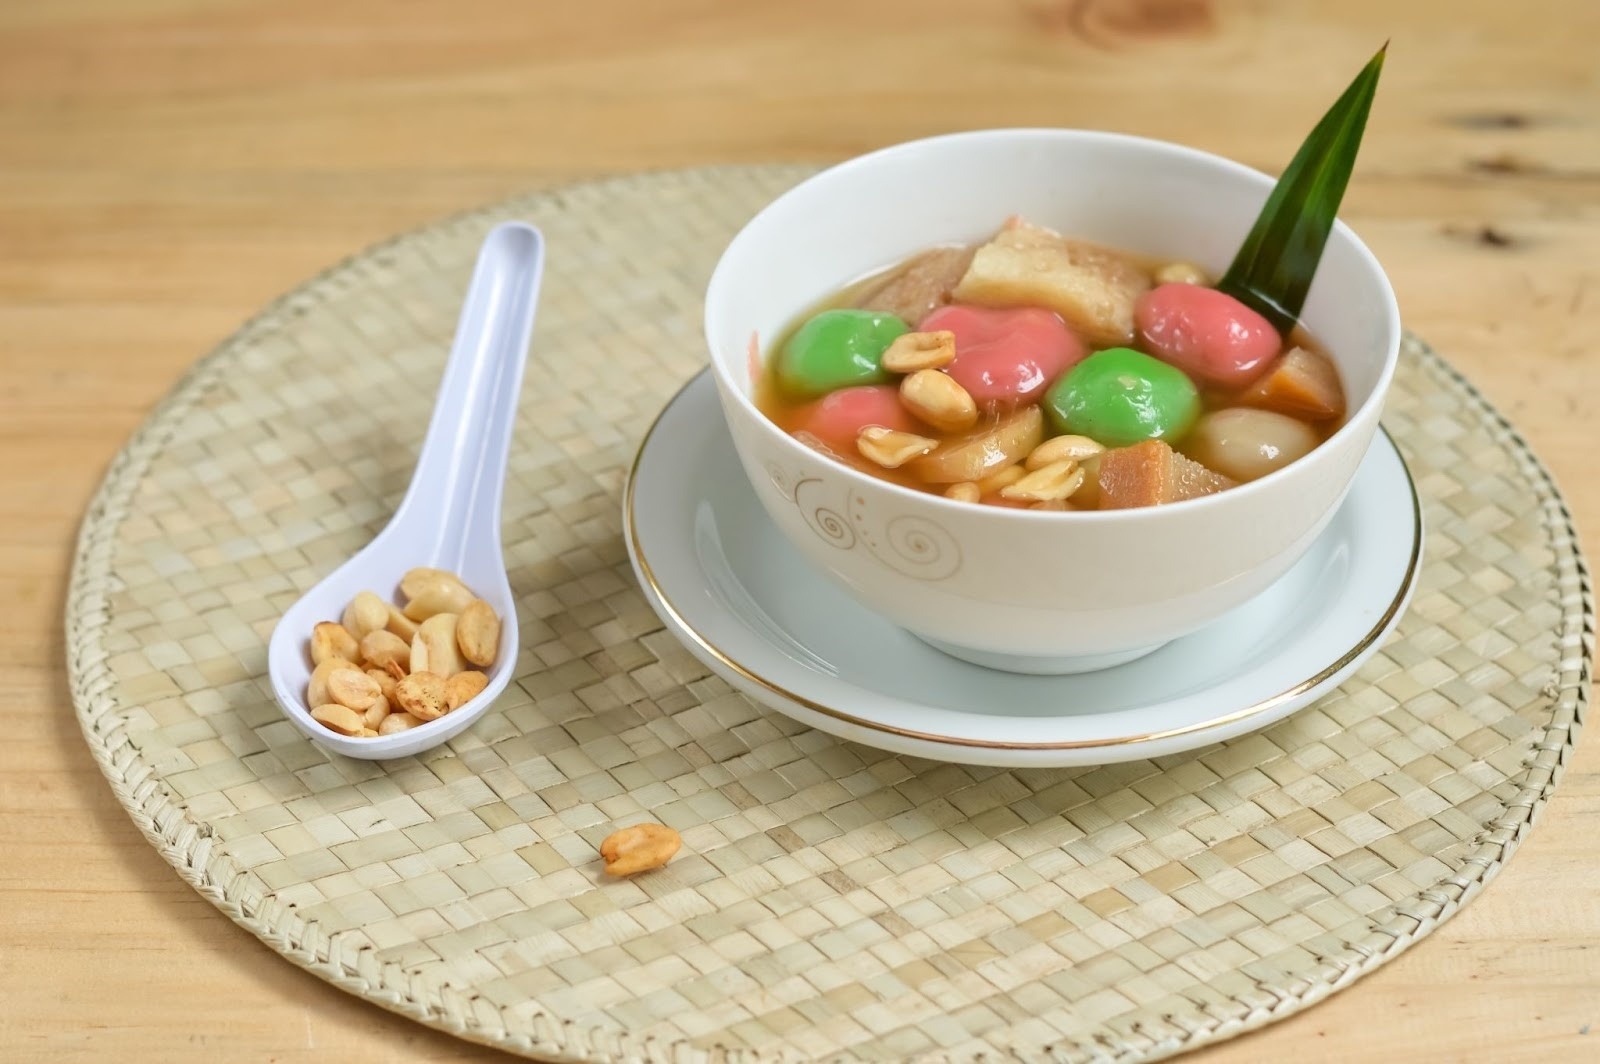ronde: (766, 223, 1357, 509)
